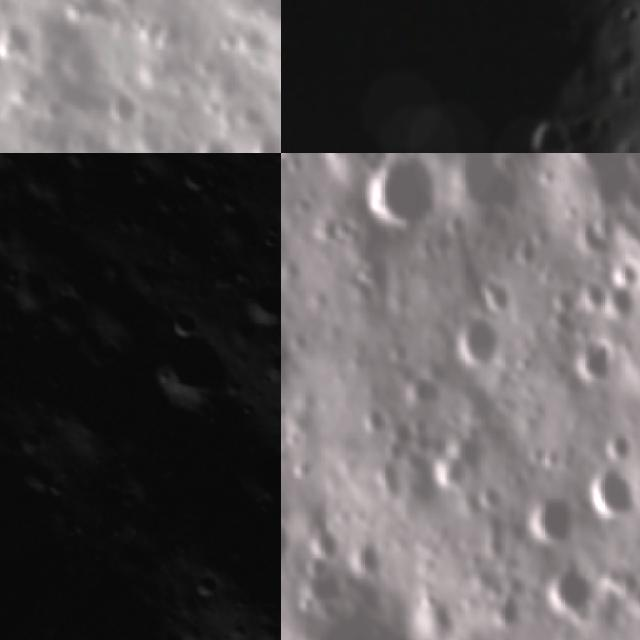crater: (0, 334, 97, 640), (32, 342, 148, 465), (143, 320, 238, 420), (80, 261, 166, 354), (211, 423, 281, 523), (359, 153, 442, 237), (445, 153, 525, 223), (557, 153, 640, 209), (230, 266, 281, 343), (446, 313, 508, 373), (567, 329, 619, 394), (541, 560, 598, 616), (522, 494, 576, 551), (584, 464, 635, 519), (169, 153, 222, 205), (177, 560, 231, 610), (301, 528, 347, 574), (349, 538, 391, 587), (206, 183, 251, 226), (281, 314, 301, 400), (526, 119, 572, 153), (0, 14, 33, 61), (604, 425, 640, 465), (357, 400, 386, 439), (328, 215, 359, 244), (0, 153, 27, 182), (281, 518, 294, 570), (98, 0, 143, 15)
